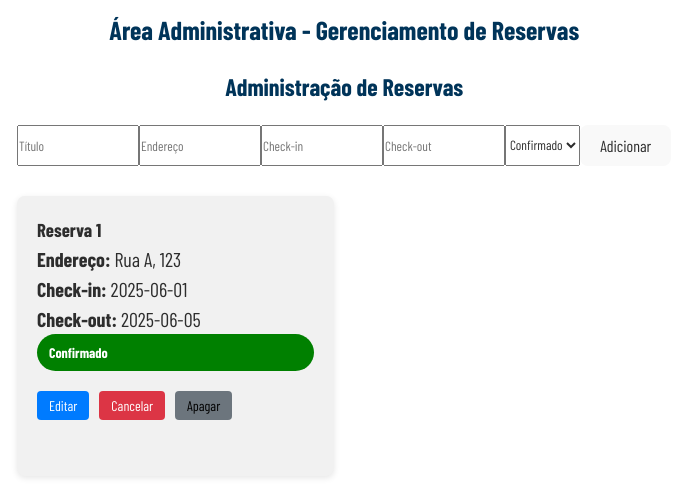
Test: AdminReservationCrud › deve adicionar uma nova reserva
The image size is (689, 496).
Type "Nova Reserva" into the field with placeholder "Título".
click(78, 146); type("Nova Reserva")  # box 17,125 -> 139,166
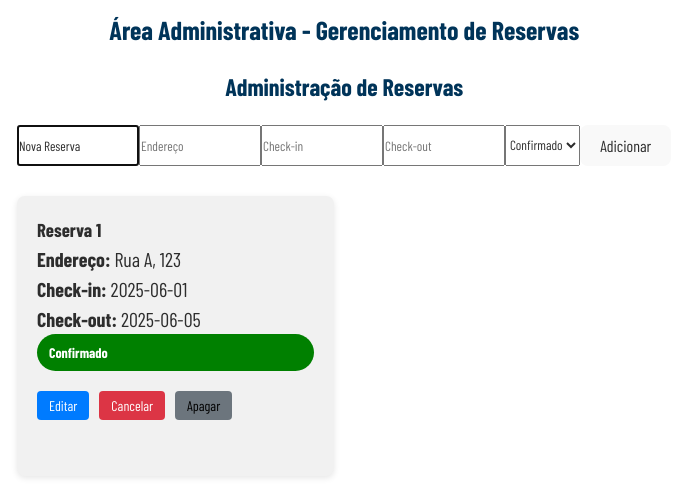
Type "Rua B, 456" into the field with placeholder "Endereço".
click(200, 146); type("Rua B, 456")  # box 139,125 -> 261,166
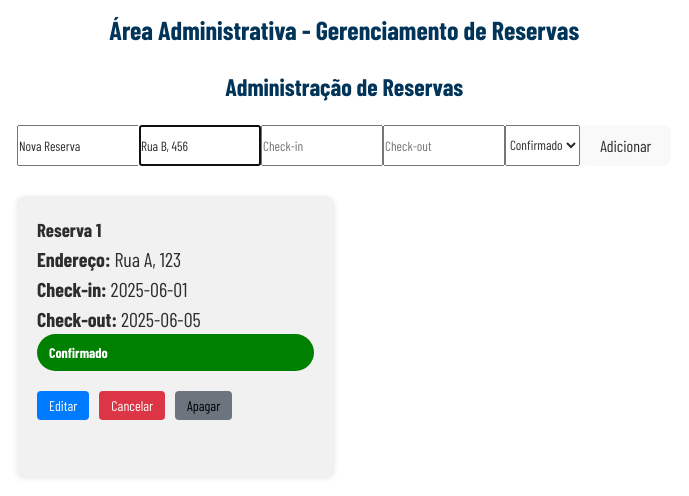
Type "2025-07-01" into the field with placeholder "Check-in".
click(322, 146); type("2025-07-01")  # box 261,125 -> 383,166
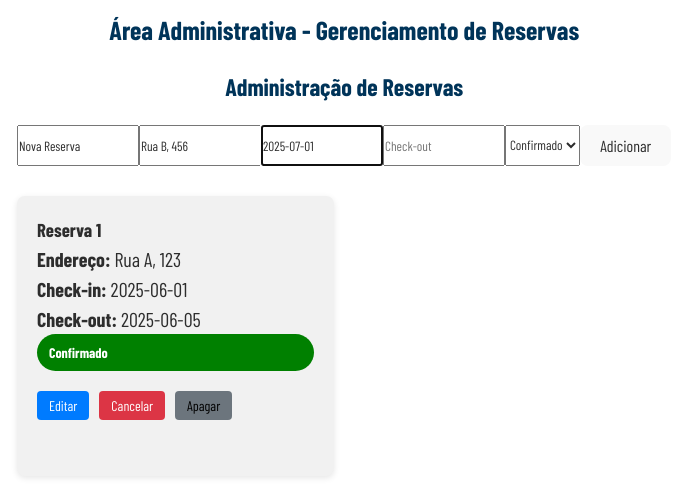
Type "2025-07-05" into the field with placeholder "Check-out".
click(444, 146); type("2025-07-05")  # box 383,125 -> 505,166
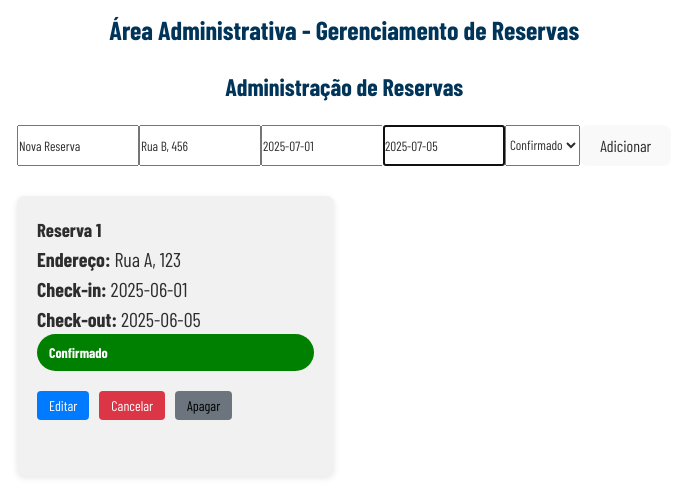
Select "Confirmado" in the dropdown at (542, 146), box 505,125 -> 580,166
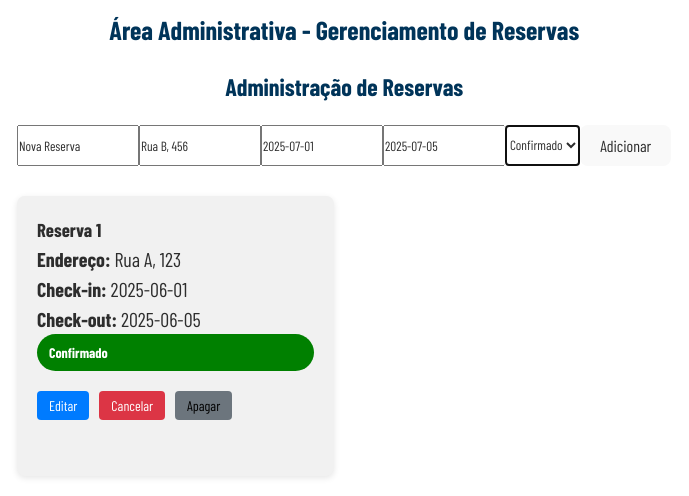
Click the button "Adicionar".
click(626, 146)  # box 580,125 -> 672,166
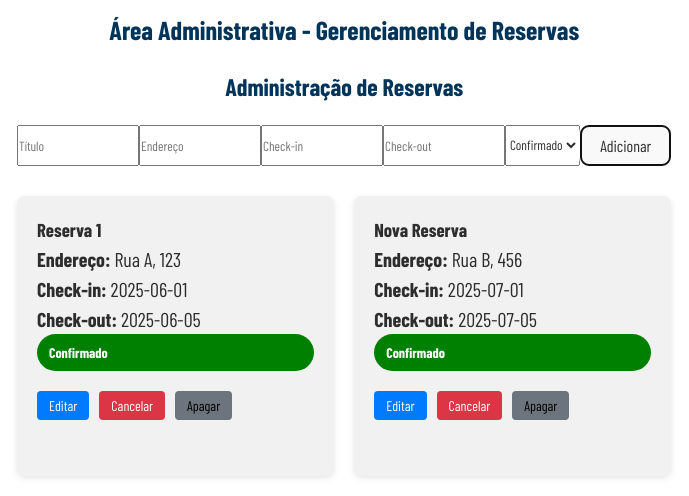
Now the heading "Nova Reserva" is shown, box 374,218 -> 467,241
Now the text "Rua B, 456" is shown, box 452,247 -> 522,271
